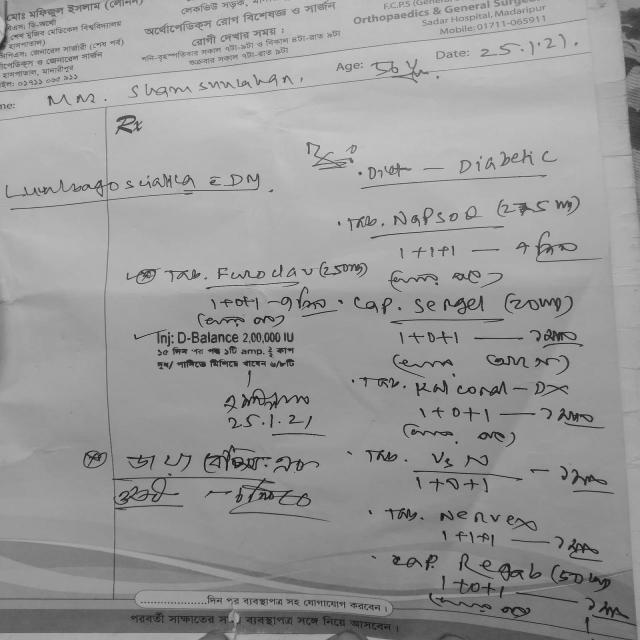Kalcoral DX: (410, 376, 577, 402)
Napsod: (386, 204, 487, 228)
Nervex: (431, 503, 547, 534)
Regab: (455, 549, 548, 586)
Sergel: (411, 294, 490, 317)
